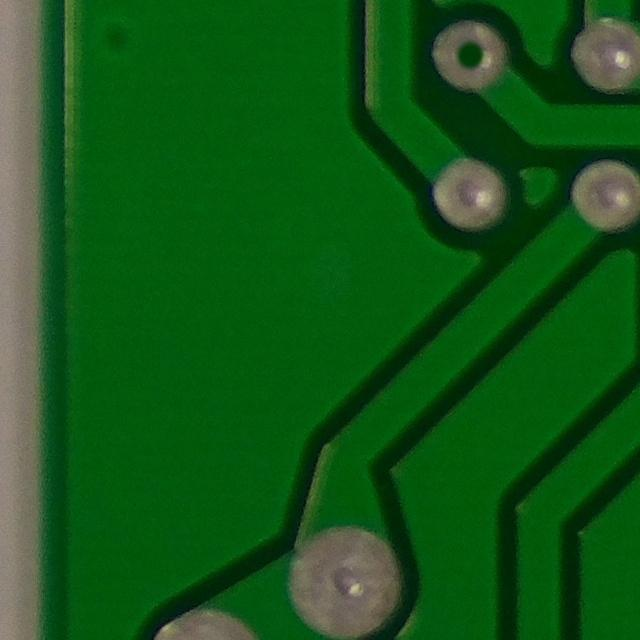missing_hole: (432, 11, 511, 99)
